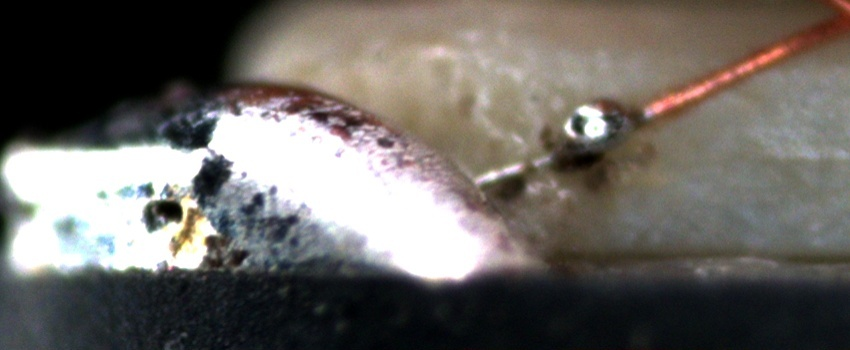DL: (668, 47, 850, 96), (773, 124, 849, 185)
TB: (551, 97, 646, 165)
TS: (477, 107, 649, 185)
TTCW: (477, 63, 737, 199)
